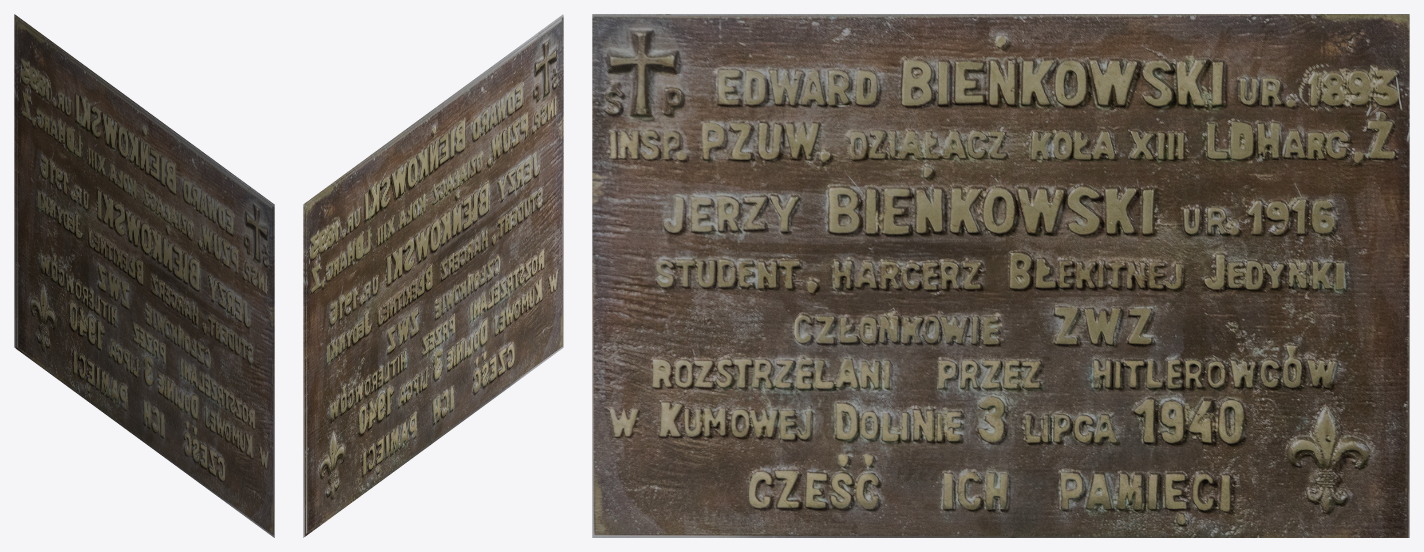
File: 37.  ŚP. EDWARD BIEŃKOWSKI.glb
The picture shows the model from 3 angles, left to right: view 1: azimuth 30°, elevation 25°; view 2: azimuth 150°, elevation 25°; view 3: azimuth 270°, elevation 25°; orthographic projection. The views are drawn at different scales.
Visible parts, largest first — view 1: Plane; view 2: Plane; view 3: Plane.
Boxes of the visible parts, <box> form: Plane: <box>14,14,274,537</box>; Plane: <box>303,14,563,537</box>; Plane: <box>592,14,1409,537</box>.
Size of the model in its own units: 0.0102 by 15 by 21.2.
1 material, 1 textured.
